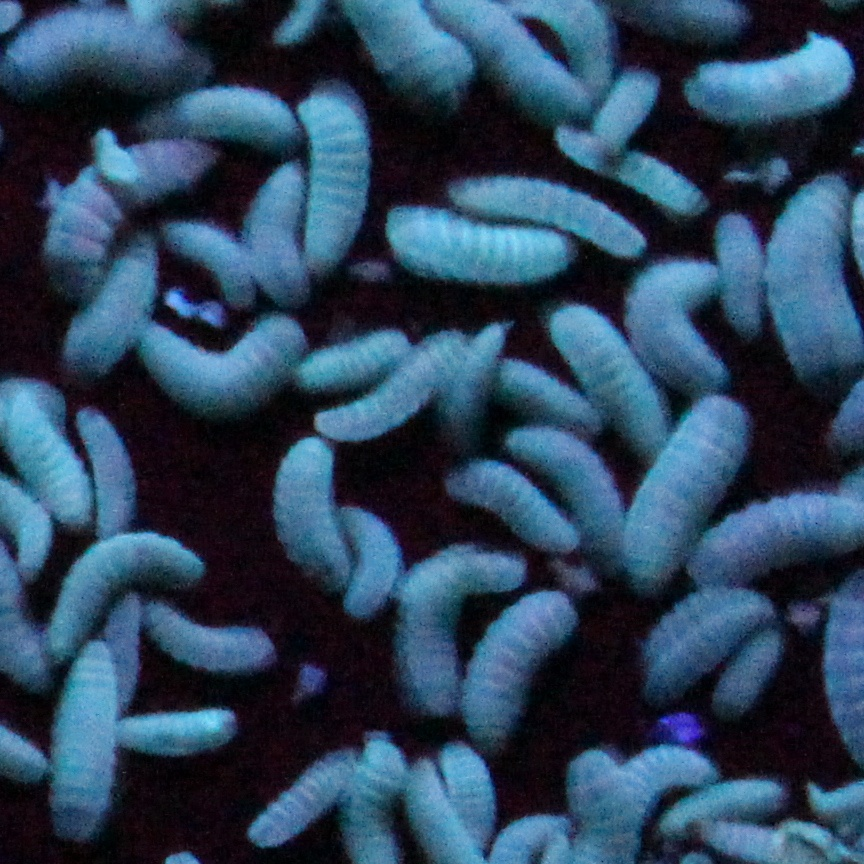larve: (634, 396, 749, 592), (41, 534, 204, 658), (449, 161, 646, 256), (546, 303, 672, 451), (470, 589, 573, 756), (141, 310, 306, 411), (13, 6, 210, 89), (380, 201, 584, 280), (41, 639, 120, 841), (625, 260, 741, 392), (296, 73, 370, 275), (684, 34, 856, 120), (556, 127, 713, 218), (61, 237, 158, 370), (275, 436, 351, 589), (246, 748, 358, 846), (144, 87, 308, 149), (75, 401, 146, 544), (146, 604, 277, 672), (161, 222, 253, 313), (449, 320, 513, 449), (253, 165, 310, 303), (339, 504, 401, 617), (710, 210, 760, 339), (718, 623, 784, 718), (118, 706, 239, 754), (303, 329, 408, 384), (601, 60, 656, 144)
